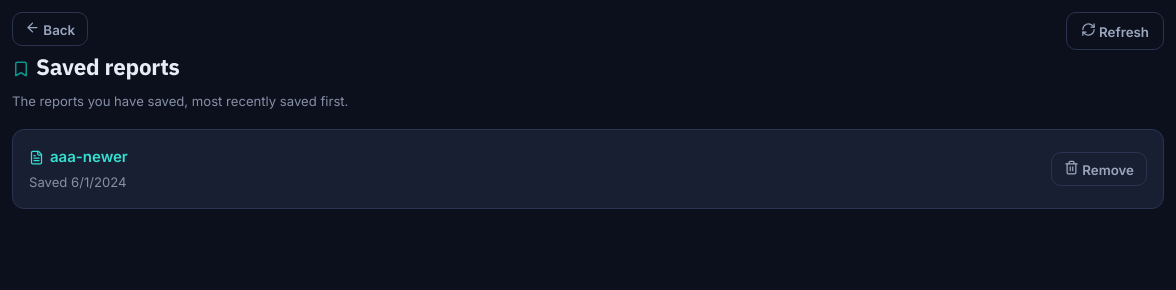
HistoryView › retains the entry and shows an error when remove fails (Req 8.5)
Click the button "Remove". click: (1099, 169)
box: [1051, 152, 1147, 186]
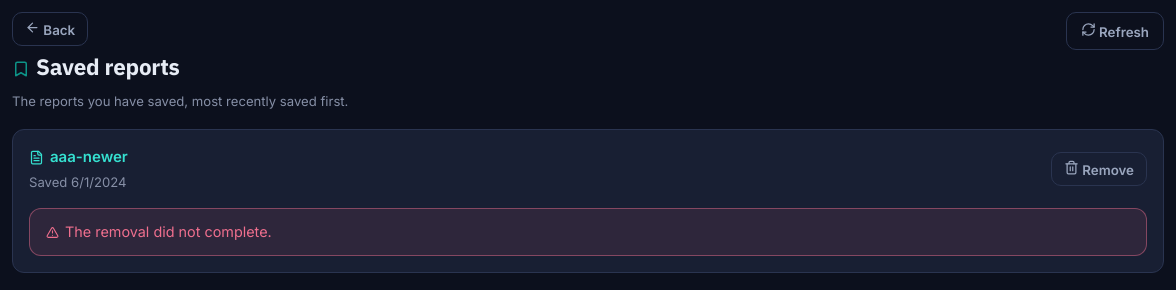
Expected: the text "aaa-newer" is shown, [50, 146, 128, 169]
Now the message shows "removal did not complete", box [65, 224, 272, 240]
